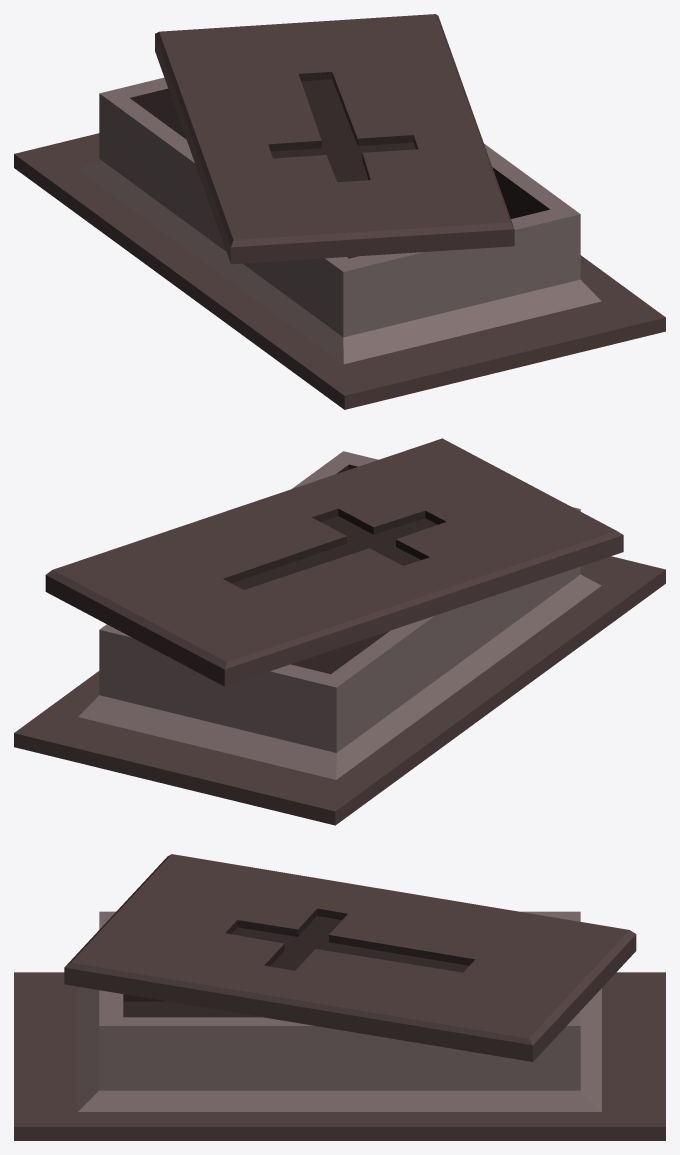
Rendered from grave_portal.glb.
3 renders of one model, top to bottom at view 1: azimuth 30°, elevation 25°; view 2: azimuth 150°, elevation 25°; view 3: azimuth 270°, elevation 25°, orthographic.
Parts seen in each view (by area): view 1: HWN20_Grave_05; view 2: HWN20_Grave_05; view 3: HWN20_Grave_05.
Boxes of the visible parts, x1,y1,x2,y2 form: HWN20_Grave_05: (14, 14, 665, 409); HWN20_Grave_05: (14, 438, 665, 825); HWN20_Grave_05: (14, 854, 665, 1140).
Size of what is drawn, in the model's own units: 1.46 by 0.4214 by 2.12.
1 material, 1 textured.
